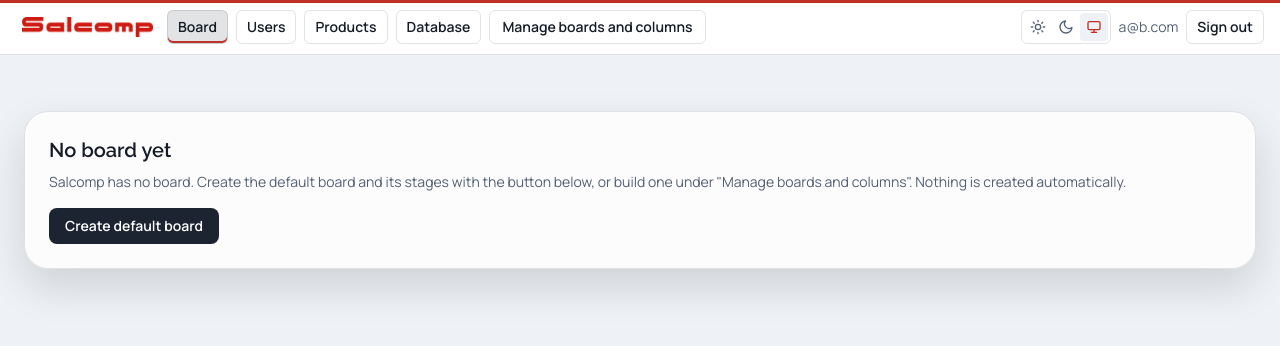
create default board › explains a 403 as an authorization failure
What coordinates should you click on to do the following:
click the button "Create default board"
I would click on:
 (134, 226)
Its box is [49,208,219,244].
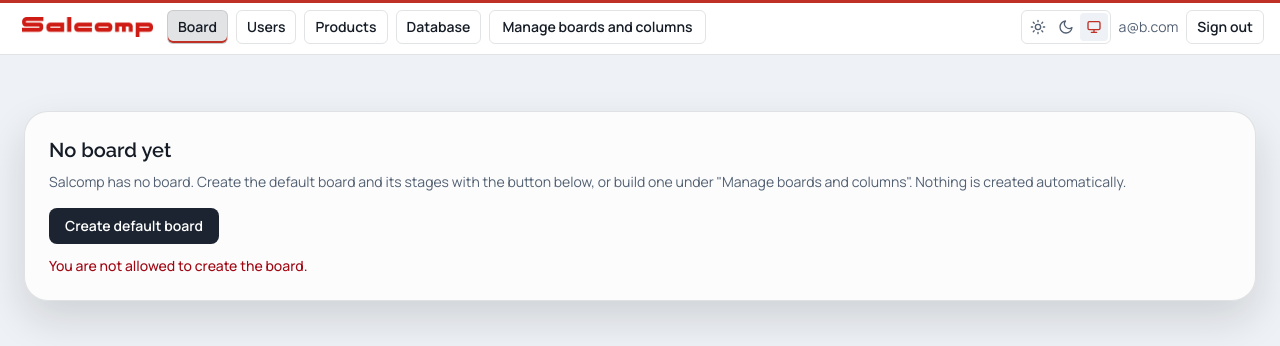
expect the message with test id "default-board-notice" shows "not allowed to create the board": met, box [49,256,307,275]
